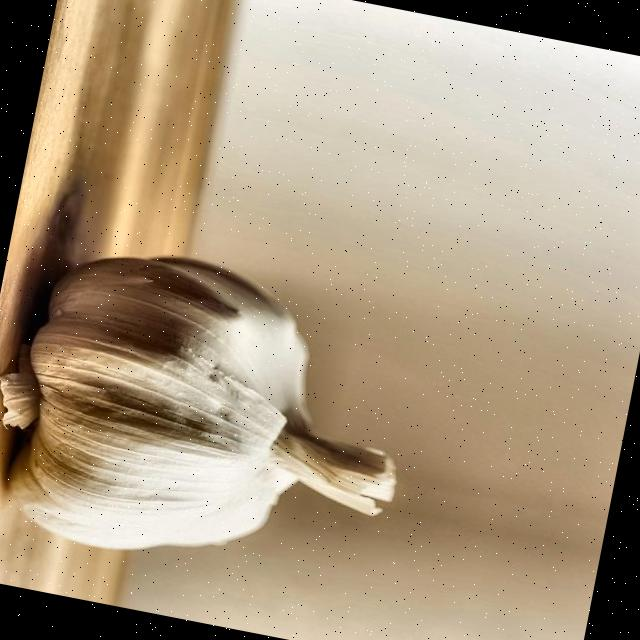garlic: (0, 258, 395, 550)
